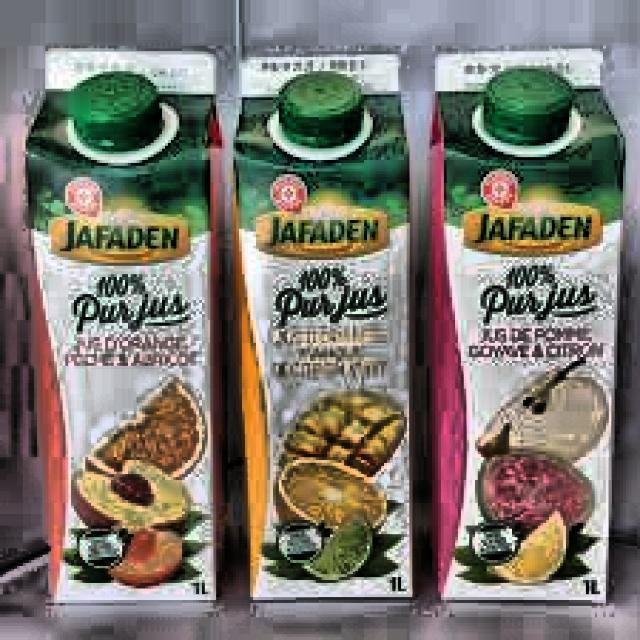cardboard: (22, 46, 224, 603), (427, 46, 626, 603), (230, 51, 416, 600)
